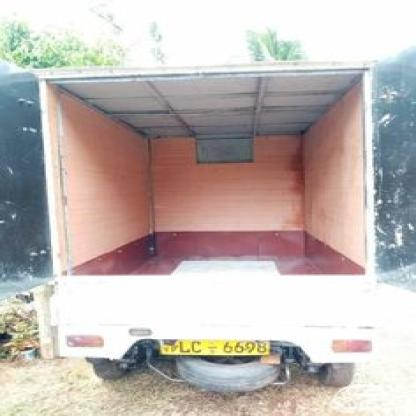Lorry back: (39, 63, 391, 393)
number plate: (160, 339, 264, 357)
